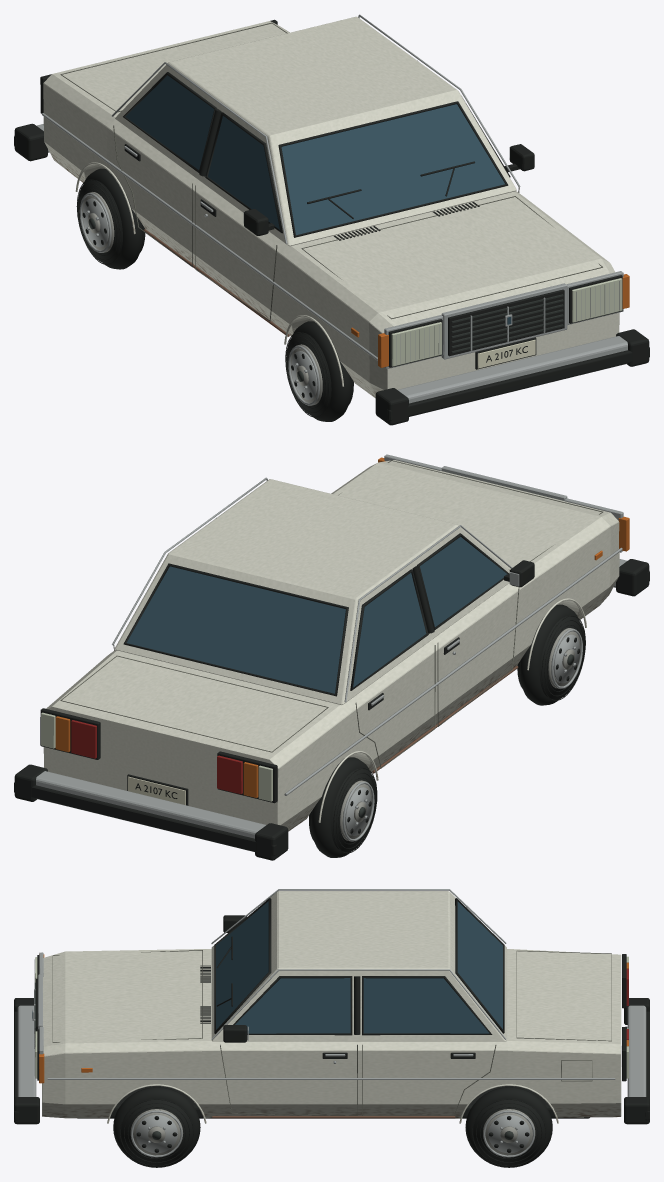
Rendered from lada_sedan_v2.glb.
3 renders of one model, top to bottom at view 1: azimuth 30°, elevation 25°; view 2: azimuth 150°, elevation 25°; view 3: azimuth 270°, elevation 25°, orthographic. The views are drawn at different scales.
Visible parts, largest first — view 1: Body, Wheel_L_F.001, Wheel_L_R.001; view 2: Body, Wheel_L_R.001, Wheel_L_F.001; view 3: Body, Wheel_R_F.001, Wheel_R_R.001.
Boxes of the visible parts, x1=… form: Body: x1=14, y1=14, x2=649, y2=425; Wheel_L_F.001: x1=285, y1=321, x2=353, y2=421; Wheel_L_R.001: x1=76, y1=168, x2=145, y2=269; Body: x1=14, y1=454, x2=649, y2=860; Wheel_L_R.001: x1=309, y1=757, x2=377, y2=857; Wheel_L_F.001: x1=517, y1=604, x2=585, y2=705; Body: x1=14, y1=889, x2=649, y2=1124; Wheel_R_F.001: x1=113, y1=1087, x2=200, y2=1167; Wheel_R_R.001: x1=465, y1=1087, x2=552, y2=1167.
Size of the model in its own units: 1.87 by 1.44 by 4.37.
Materials: 12 (1 with a texture image).
